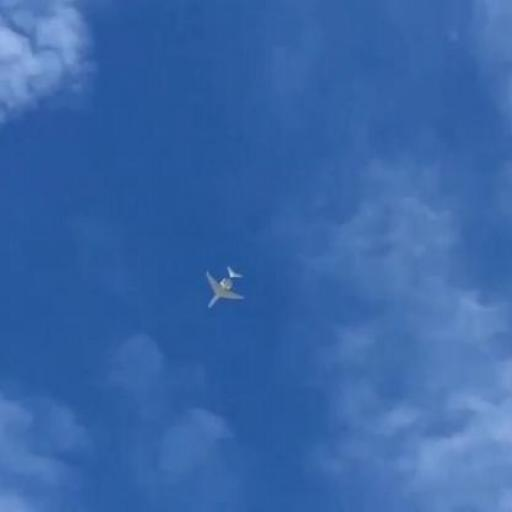aircraft: (206, 265, 246, 308)
